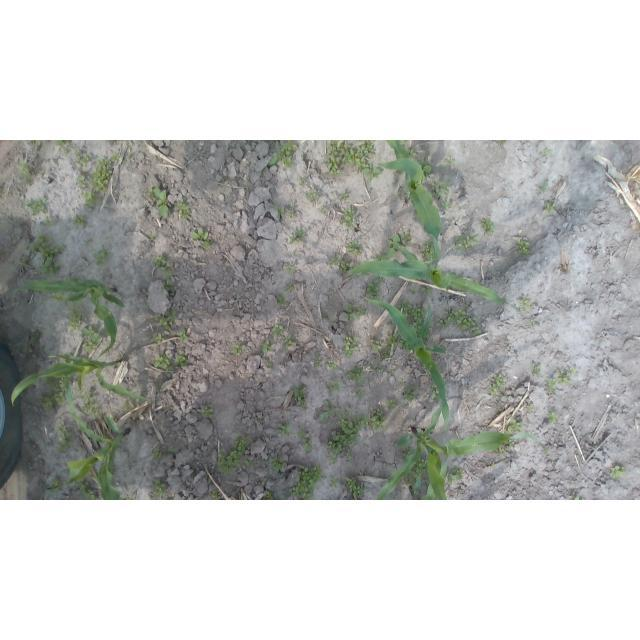Maize: (376, 404, 546, 500), (349, 242, 522, 314), (366, 296, 450, 433), (13, 276, 126, 358), (62, 377, 130, 500), (376, 140, 442, 265), (11, 353, 147, 408)
Weeds: (289, 464, 323, 500), (352, 140, 381, 182), (327, 435, 360, 464), (39, 377, 65, 413), (268, 140, 298, 169), (336, 408, 369, 434), (400, 457, 429, 486), (90, 158, 112, 195), (30, 231, 59, 259), (217, 449, 243, 476), (55, 421, 74, 454), (78, 391, 100, 418), (326, 140, 343, 174), (409, 305, 425, 340), (153, 187, 170, 219), (344, 475, 365, 499), (453, 231, 478, 251), (83, 326, 102, 352), (77, 479, 99, 500), (190, 228, 213, 248), (68, 305, 85, 331), (455, 308, 475, 330), (41, 257, 60, 280), (23, 199, 47, 217), (370, 407, 388, 429), (155, 352, 174, 372), (341, 337, 359, 358), (17, 161, 33, 184), (293, 384, 308, 408), (430, 179, 450, 197), (515, 237, 533, 256), (504, 419, 523, 437), (320, 407, 341, 423), (386, 234, 400, 258), (346, 365, 364, 383), (397, 300, 412, 321), (367, 279, 382, 300), (72, 148, 89, 166), (609, 464, 628, 480), (152, 478, 167, 498), (481, 216, 496, 236), (343, 207, 357, 228), (84, 191, 101, 208), (290, 228, 307, 245), (46, 479, 61, 498), (95, 248, 110, 267), (417, 159, 432, 178), (176, 198, 190, 218), (421, 240, 434, 261), (233, 435, 249, 452), (447, 468, 464, 484), (269, 457, 286, 473), (277, 420, 292, 436), (402, 386, 417, 402), (342, 144, 354, 164), (153, 315, 170, 329), (543, 200, 558, 215), (347, 240, 361, 256), (160, 263, 174, 278), (273, 205, 287, 220), (306, 189, 320, 204), (519, 297, 533, 312), (443, 309, 458, 323), (175, 351, 188, 367), (260, 338, 272, 355), (386, 330, 398, 347), (153, 255, 168, 268), (327, 381, 342, 394), (431, 380, 441, 399), (199, 405, 213, 418), (400, 338, 413, 352), (546, 378, 557, 394), (272, 324, 285, 337), (72, 216, 85, 229), (495, 373, 507, 387), (557, 371, 569, 385), (547, 411, 559, 425), (163, 281, 178, 292), (339, 260, 350, 275), (567, 492, 584, 501), (121, 400, 133, 412), (288, 203, 297, 219), (344, 312, 360, 321), (283, 333, 293, 347), (304, 437, 313, 452), (403, 444, 412, 459), (370, 338, 381, 350), (420, 285, 433, 295), (531, 363, 541, 376), (394, 191, 410, 199), (154, 333, 165, 344), (165, 310, 177, 320), (176, 331, 188, 341), (539, 181, 549, 193), (489, 384, 499, 396), (505, 438, 515, 450), (233, 345, 246, 354), (344, 302, 357, 311), (403, 232, 412, 245), (75, 174, 86, 184), (276, 295, 287, 305), (285, 263, 296, 273), (387, 399, 398, 409), (438, 319, 449, 329), (406, 147, 417, 157), (210, 490, 221, 500), (152, 447, 161, 459), (496, 444, 505, 456), (440, 200, 452, 209), (540, 148, 553, 156), (295, 427, 305, 437), (471, 326, 481, 336), (314, 356, 323, 367), (339, 192, 350, 201), (356, 387, 365, 398), (330, 256, 341, 265), (26, 140, 42, 146), (443, 156, 455, 164), (376, 255, 389, 262), (525, 404, 535, 413), (384, 349, 393, 359), (330, 478, 339, 488), (264, 492, 274, 501), (245, 458, 254, 468), (24, 344, 33, 353), (112, 153, 121, 162), (284, 284, 293, 293), (569, 368, 578, 377), (328, 360, 337, 369), (31, 332, 37, 345), (168, 444, 177, 452), (145, 187, 153, 196), (55, 140, 64, 148), (299, 176, 308, 184), (359, 305, 366, 315), (409, 288, 417, 296), (23, 256, 30, 265), (44, 218, 53, 225), (279, 493, 287, 500), (70, 276, 80, 281), (60, 244, 67, 251), (400, 379, 408, 385), (265, 361, 273, 367), (426, 328, 431, 337), (530, 318, 537, 324), (320, 206, 326, 213), (124, 496, 132, 501), (398, 140, 406, 145), (498, 140, 506, 144), (150, 235, 155, 241), (106, 236, 111, 241), (324, 400, 329, 405)
